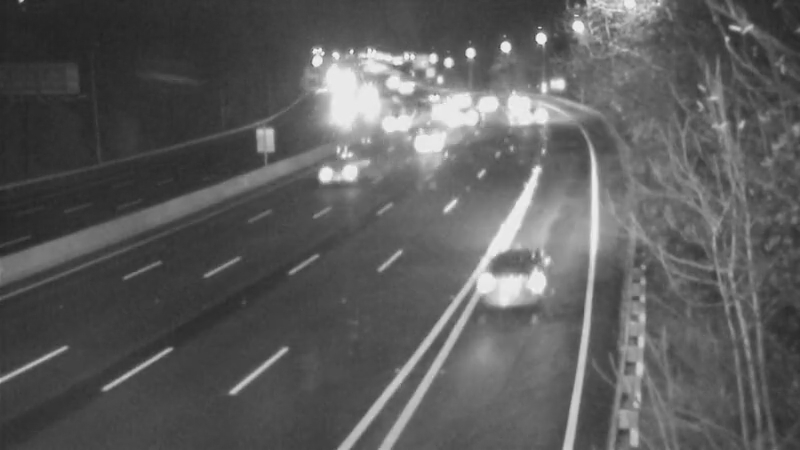vehicle: (302, 134, 382, 214), (473, 250, 553, 330), (381, 62, 431, 112), (412, 72, 462, 122), (432, 72, 482, 122), (491, 75, 541, 125), (459, 82, 509, 132), (413, 90, 463, 140), (510, 90, 560, 140), (441, 93, 491, 143), (368, 102, 418, 152), (404, 118, 454, 168), (319, 82, 369, 132)
